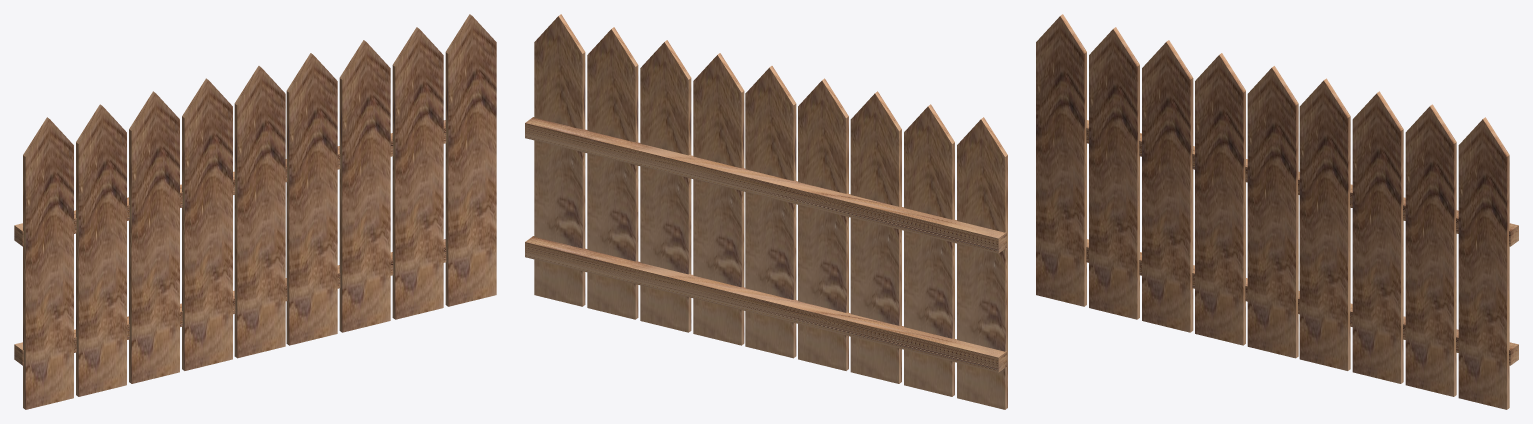
File: Fence.glb
3 views of the same model, side by side, from view 1: azimuth 30°, elevation 25°; view 2: azimuth 150°, elevation 25°; view 3: azimuth 330°, elevation 25° (orthographic).
Visible parts, largest first — view 1: Cube.002, Cube.001, Cube.007, Cube.008, Cube, Cube.006, Cube.003, Cube.004, Cube.005, Cube.009, Cube.010; view 2: Cube.001, Cube.002, Cube.003, Cube.008, Cube, Cube.007, Cube.005, Cube.006, Cube.004, Cube.009, Cube.010; view 3: Cube.001, Cube.002, Cube.007, Cube, Cube.003, Cube.008, Cube.005, Cube.006, Cube.004, Cube.010, Cube.009.
Boxes of the visible parts, x1,y1,x2,y2 form: Cube.002: [339, 40, 390, 332]; Cube.001: [286, 53, 337, 345]; Cube.007: [392, 27, 443, 319]; Cube.008: [445, 14, 496, 306]; Cube: [234, 66, 285, 358]; Cube.006: [76, 104, 126, 396]; Cube.003: [129, 91, 179, 383]; Cube.004: [182, 78, 232, 370]; Cube.005: [23, 117, 73, 409]; Cube.009: [14, 120, 446, 246]; Cube.010: [14, 239, 446, 365]; Cube.001: [693, 53, 744, 345]; Cube.002: [640, 40, 691, 332]; Cube.003: [850, 91, 901, 383]; Cube.008: [534, 14, 585, 306]; Cube: [745, 66, 796, 358]; Cube.007: [587, 27, 638, 319]; Cube.005: [957, 117, 1007, 409]; Cube.006: [904, 104, 954, 396]; Cube.004: [798, 78, 848, 370]; Cube.009: [525, 117, 1006, 253]; Cube.010: [525, 236, 1006, 372]; Cube.001: [1299, 78, 1350, 370]; Cube.002: [1352, 91, 1403, 383]; Cube.007: [1405, 104, 1456, 396]; Cube: [1247, 66, 1298, 358]; Cube.003: [1142, 40, 1193, 332]; Cube.008: [1458, 117, 1509, 409]; Cube.005: [1036, 14, 1086, 306]; Cube.006: [1089, 27, 1139, 319]; Cube.004: [1195, 53, 1245, 345]; Cube.010: [1086, 239, 1518, 365]; Cube.009: [1086, 120, 1518, 246].
Size of the model in its own units: 19.6 by 11.27 by 0.7482.
2 materials, 2 textured.
